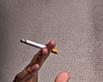smoke: (18, 36, 58, 54)
